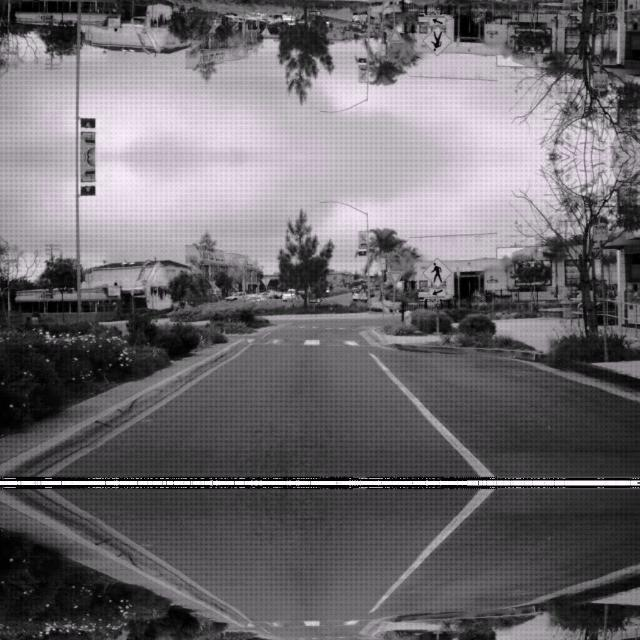pedestrianCrossing: (422, 256, 452, 286), (422, 26, 452, 56)
yield: (386, 269, 404, 285), (386, 27, 404, 43)
